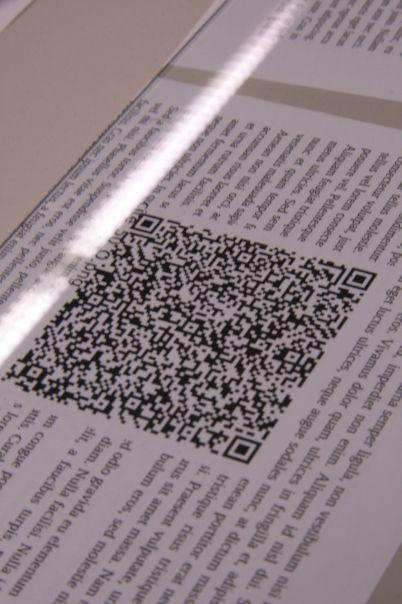Finder pattern: (220, 434, 264, 466), (341, 267, 378, 295), (129, 212, 166, 236)
